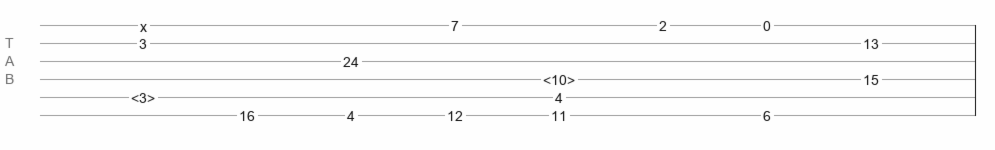0: (763, 18, 771, 28)
11: (551, 108, 567, 118)
12: (447, 108, 463, 118)
13: (863, 36, 879, 46)
15: (863, 72, 879, 82)
16: (239, 108, 255, 118)
2: (659, 18, 667, 28)
24: (343, 54, 359, 64)
3: (139, 36, 147, 46)
4: (347, 108, 355, 118), (555, 90, 563, 100)
6: (763, 108, 771, 118)
7: (451, 18, 459, 28)
harmonic: (543, 72, 575, 82), (131, 90, 155, 100)
x: (140, 19, 147, 27)
